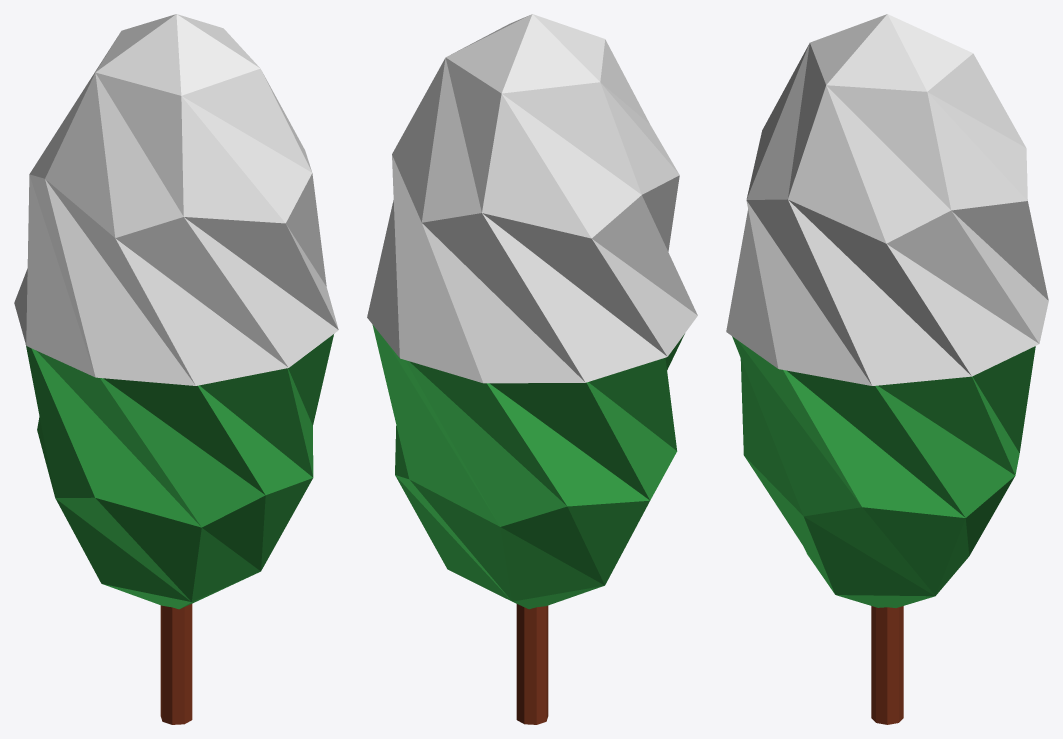
The model's file is tree.019.fbx.
3 renders of one model, left to right at view 1: azimuth 30°, elevation 25°; view 2: azimuth 150°, elevation 25°; view 3: azimuth 270°, elevation 25°, orthographic.
Visible parts, largest first — view 1: Tree.019; view 2: Tree.019; view 3: Tree.019.
Boxes of the visible parts, x1,y1,x2,y2 form: Tree.019: (14, 14, 338, 724); Tree.019: (367, 14, 697, 724); Tree.019: (726, 14, 1048, 724).
Size of the model in its own units: 406 by 958 by 398.
